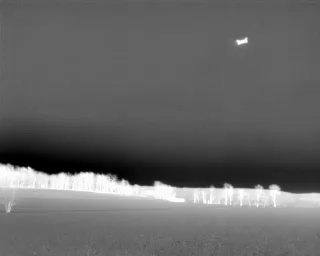DRONE: (231, 33, 253, 51)
